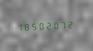eight: (24, 21, 30, 31)
five: (31, 20, 37, 31)
one: (17, 21, 23, 32)
seven: (59, 19, 65, 29)
two: (66, 18, 72, 29), (45, 20, 51, 30)
zero: (38, 20, 44, 31), (52, 19, 58, 30)
